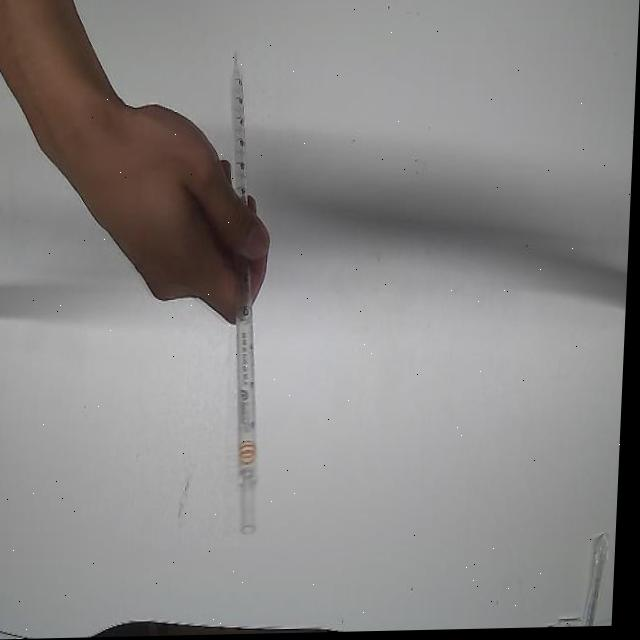Serelogical Pipet 10 mL: (212, 44, 286, 543)
